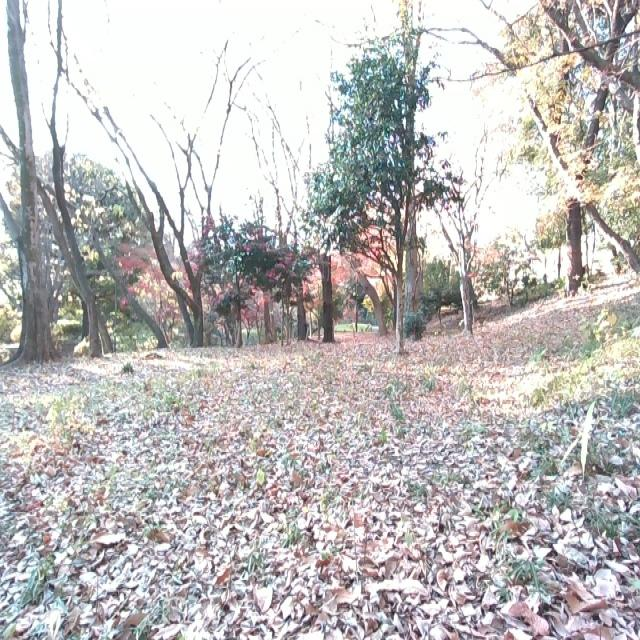tree: (82, 19, 243, 354), (0, 0, 117, 354), (538, 0, 640, 292), (0, 0, 66, 369), (377, 0, 426, 330), (428, 146, 492, 328), (378, 110, 413, 356), (304, 150, 345, 348)
